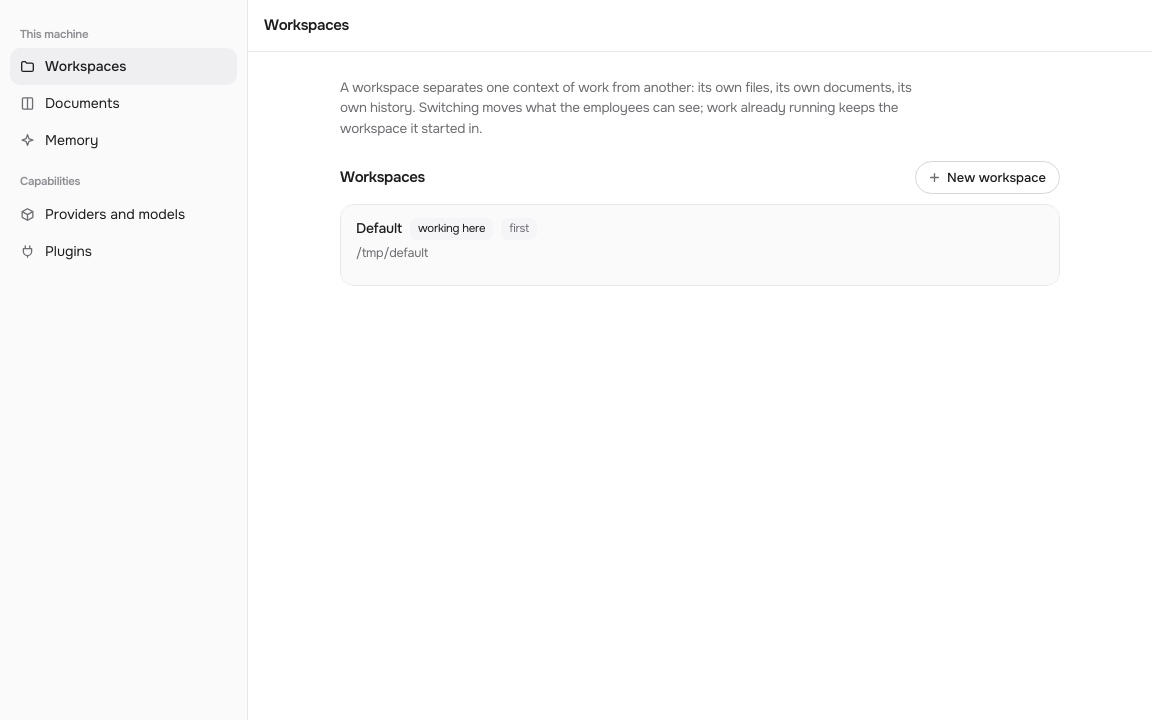
Test: Settings → Plugins → MCP servers › says so when the machine has integrations switched off
Click the button "Plugins" at (124, 251), box [10, 232, 237, 270]
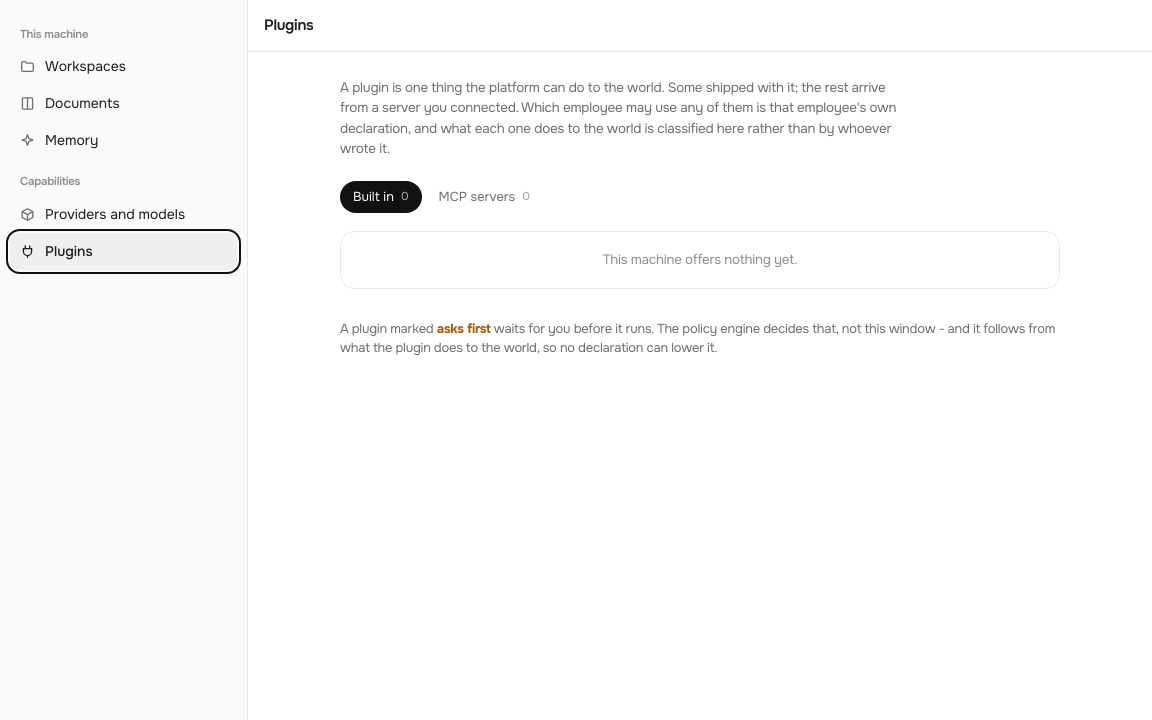
Click the tab "MCP servers 0" at (484, 197), box [426, 181, 543, 212]
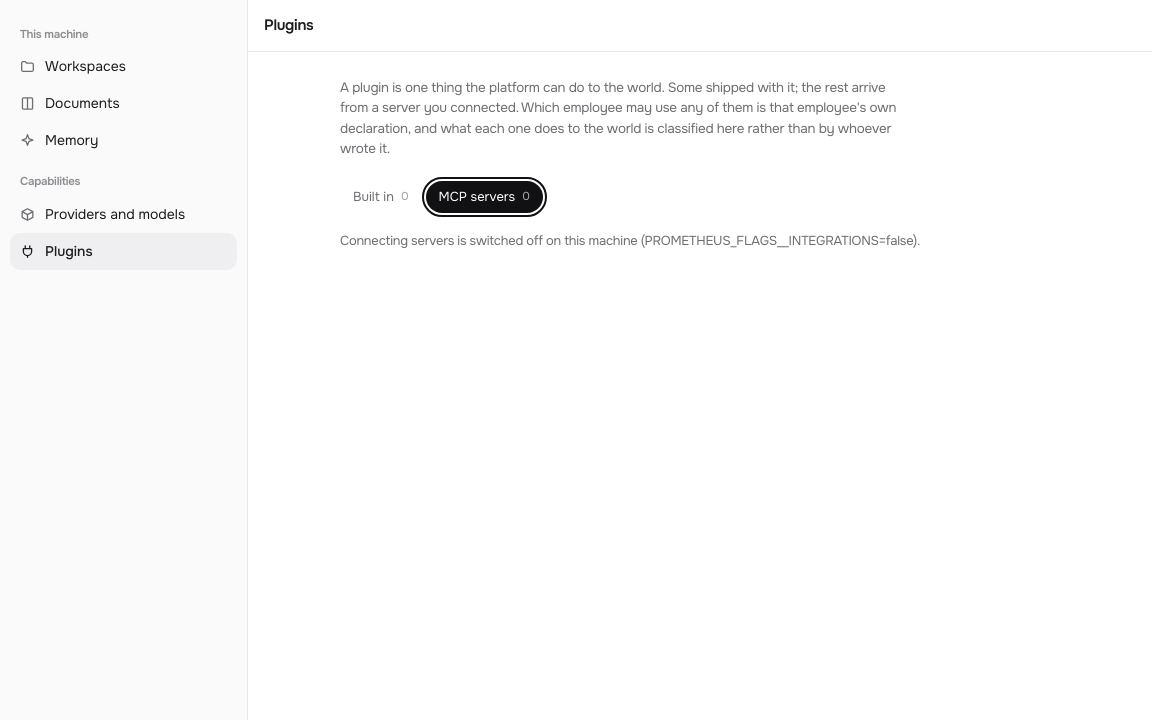
Result: the text "switched off on this machine" is shown at [340, 232, 920, 248]
